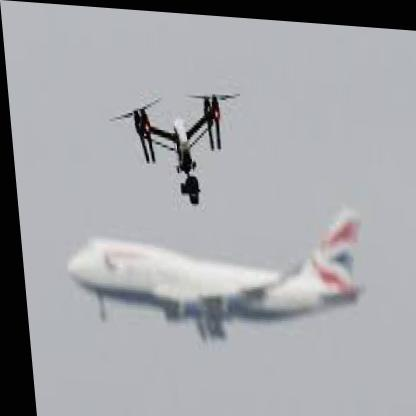Aircraft: (57, 185, 366, 346)
UAS: (106, 82, 246, 207)
